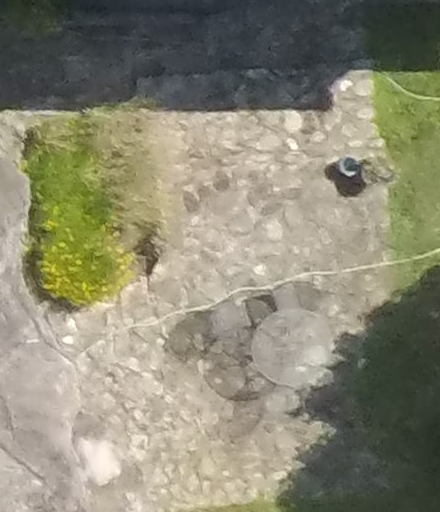container: (334, 151, 362, 186)
flower pot: (334, 148, 364, 180)
table: (245, 299, 344, 397)
